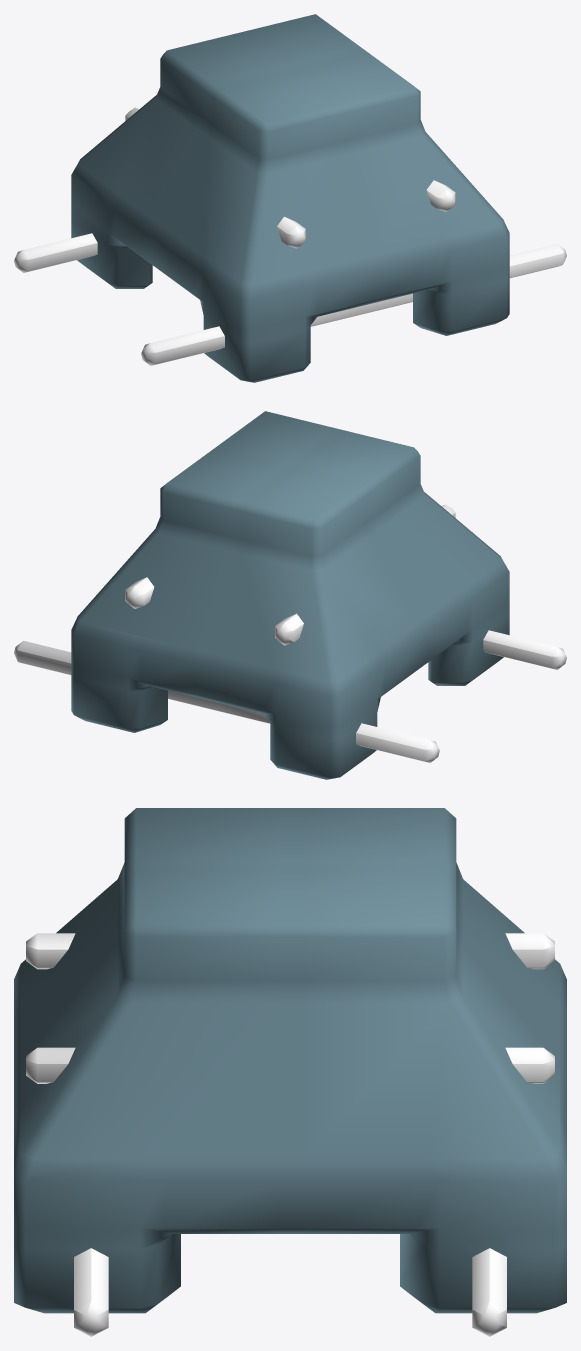
The model's file is chassis.004.glb.
3 views of the same model, one above another, from view 1: azimuth 30°, elevation 25°; view 2: azimuth 150°, elevation 25°; view 3: azimuth 270°, elevation 25° (orthographic). The views are drawn at different scales.
Visible parts, largest first — view 1: chassis.004; view 2: chassis.004; view 3: chassis.004.
Part boxes in pixels (x1,y1,x2,y2): chassis.004: [14, 14, 566, 382]; chassis.004: [14, 411, 566, 779]; chassis.004: [14, 808, 566, 1336].
Bounding box in the file's own units: 3.29 × 1.67 × 2.4.
